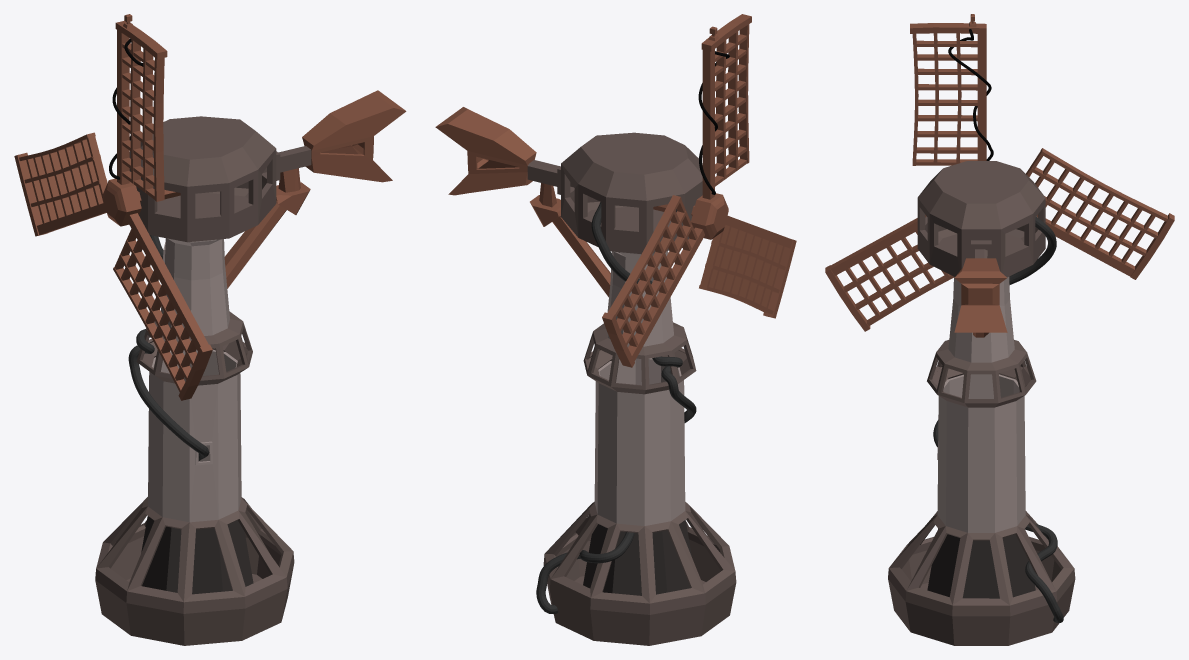
File: WinMillFixedOrigin.fbx
3 views of the same model, side by side, from view 1: azimuth 30°, elevation 25°; view 2: azimuth 150°, elevation 25°; view 3: azimuth 270°, elevation 25° (orthographic). The views are drawn at different scales.
Parts seen in each view (by area): view 1: Cube.025, Cylinder.007, Cylinder, Cylinder.001, Cylinder.004, Cylinder.005, Cylinder.006, Cylinder.003, Cube; view 2: Cube.025, Cylinder.007, Cylinder, Cylinder.001, Cylinder.004, Cylinder.005, Cylinder.006, Cube, Cylinder.003; view 3: Cube.025, Cylinder, Cylinder.007, Cylinder.001, Cylinder.005, Cylinder.006, Cylinder.004, Cube, Cube.014.
Boxes of the visible parts, left/top/right/bottom form: Cube.025: left=14, top=14, right=212, bottom=400; Cylinder.007: left=95, top=497, right=294, bottom=645; Cylinder: left=148, top=238, right=241, bottom=522; Cylinder.001: left=129, top=116, right=311, bottom=242; Cylinder.004: left=302, top=90, right=406, bottom=182; Cylinder.005: left=141, top=516, right=253, bottom=594; Cylinder.006: left=136, top=311, right=252, bottom=385; Cylinder.003: left=224, top=168, right=310, bottom=288; Cube: left=128, top=235, right=209, bottom=460; Cube.025: left=602, top=14, right=796, bottom=367; Cylinder.007: left=543, top=501, right=736, bottom=645; Cylinder: left=594, top=251, right=685, bottom=525; Cylinder.001: left=527, top=132, right=702, bottom=254; Cylinder.004: left=435, top=107, right=536, bottom=195; Cylinder.005: left=583, top=520, right=691, bottom=595; Cylinder.006: left=583, top=322, right=696, bottom=394; Cube: left=536, top=202, right=696, bottom=614; Cylinder.003: left=530, top=183, right=610, bottom=297; Cube.025: left=825, top=14, right=1174, bottom=331; Cylinder: left=937, top=277, right=1025, bottom=532; Cylinder.007: left=888, top=511, right=1075, bottom=645; Cylinder.001: left=917, top=161, right=1045, bottom=277; Cylinder.005: left=927, top=528, right=1035, bottom=598; Cylinder.006: left=927, top=340, right=1036, bottom=407; Cylinder.004: left=954, top=258, right=1007, bottom=332; Cube: left=933, top=217, right=1063, bottom=623; Cube.014: left=948, top=29, right=993, bottom=160.
Bounding box in the file's own units: 202 × 421 × 236.
